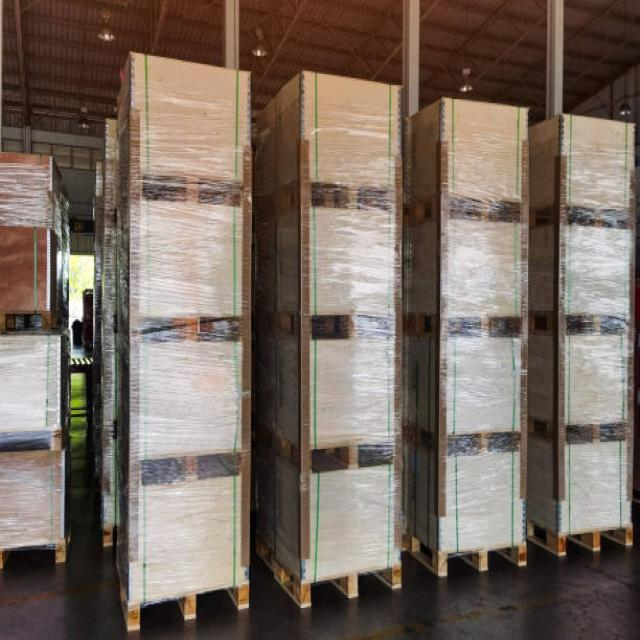Wooden-Pallets: (293, 553, 410, 637), (121, 570, 252, 640), (435, 530, 534, 595)
